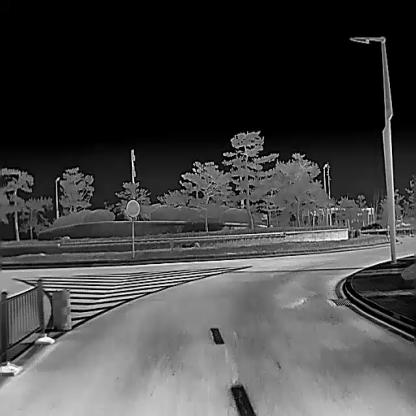car: (360, 223, 381, 230)
